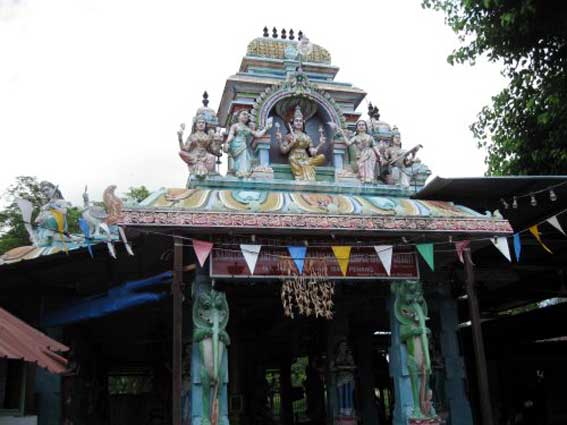Hindu Temple: (153, 24, 431, 411)
